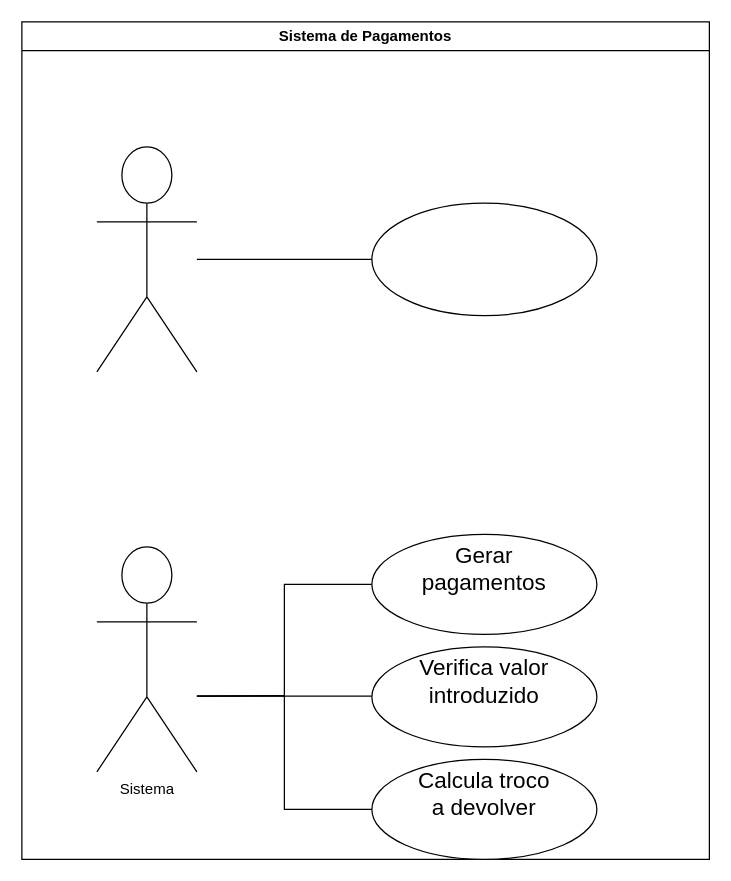
Image size: 731x881. Some labels were removed from this diagram. Each missing label, with the box of its shape:
Cliente: (96, 146, 197, 372)
Introduzir notas/moedas: (371, 202, 597, 316)
